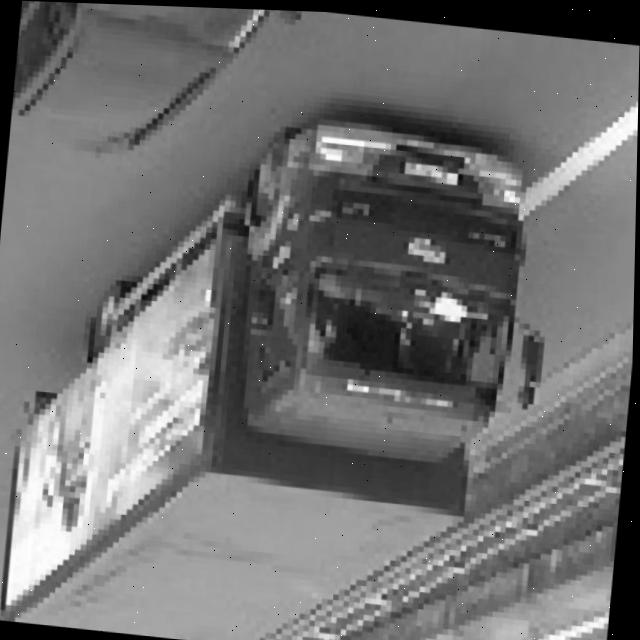truck: (201, 94, 577, 494)
